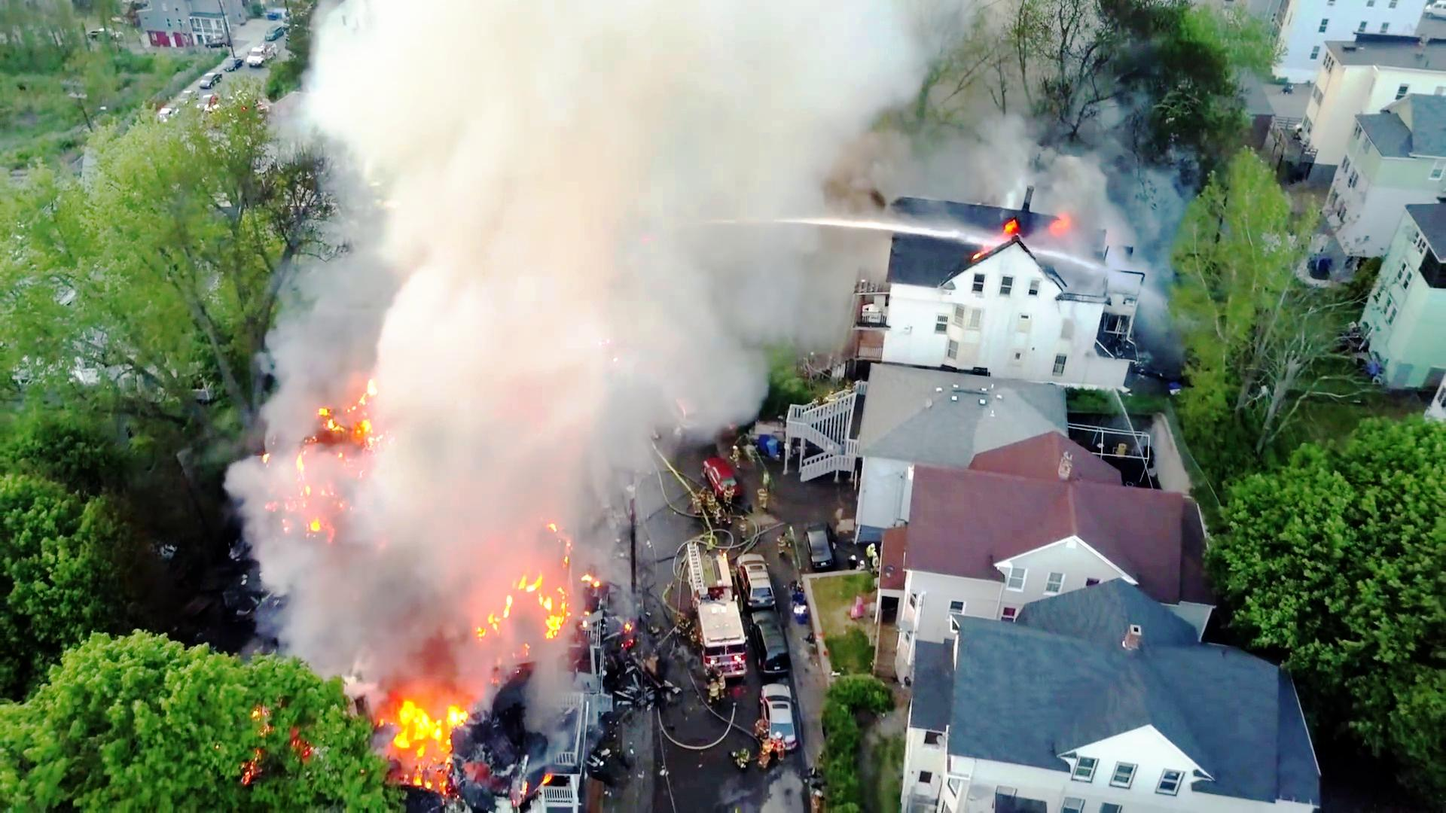fire: (465, 541, 576, 652), (369, 698, 462, 777), (315, 389, 374, 464)
smoke: (418, 0, 721, 414)
